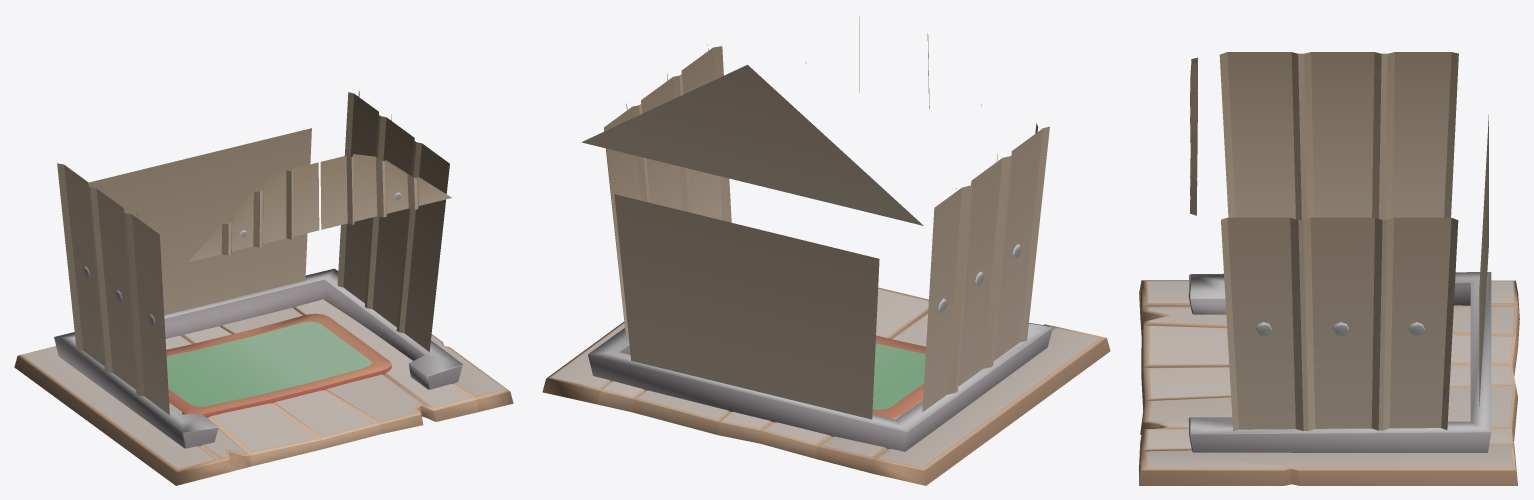
Rendered from RescueStationFloor_1.glb.
3 renders of one model, left to right at view 1: azimuth 30°, elevation 25°; view 2: azimuth 150°, elevation 25°; view 3: azimuth 270°, elevation 25°, orthographic. The views are drawn at different scales.
Parts seen in each view (by area): view 1: RescueStationFloor; view 2: RescueStationFloor; view 3: RescueStationFloor.
Part boxes in pixels (x1,y1,x2,y2): RescueStationFloor: (14, 90, 513, 485); RescueStationFloor: (542, 16, 1110, 485); RescueStationFloor: (1139, 52, 1519, 485).
Bounding box in the file's own units: 5.13 × 4.66 × 4.28.
